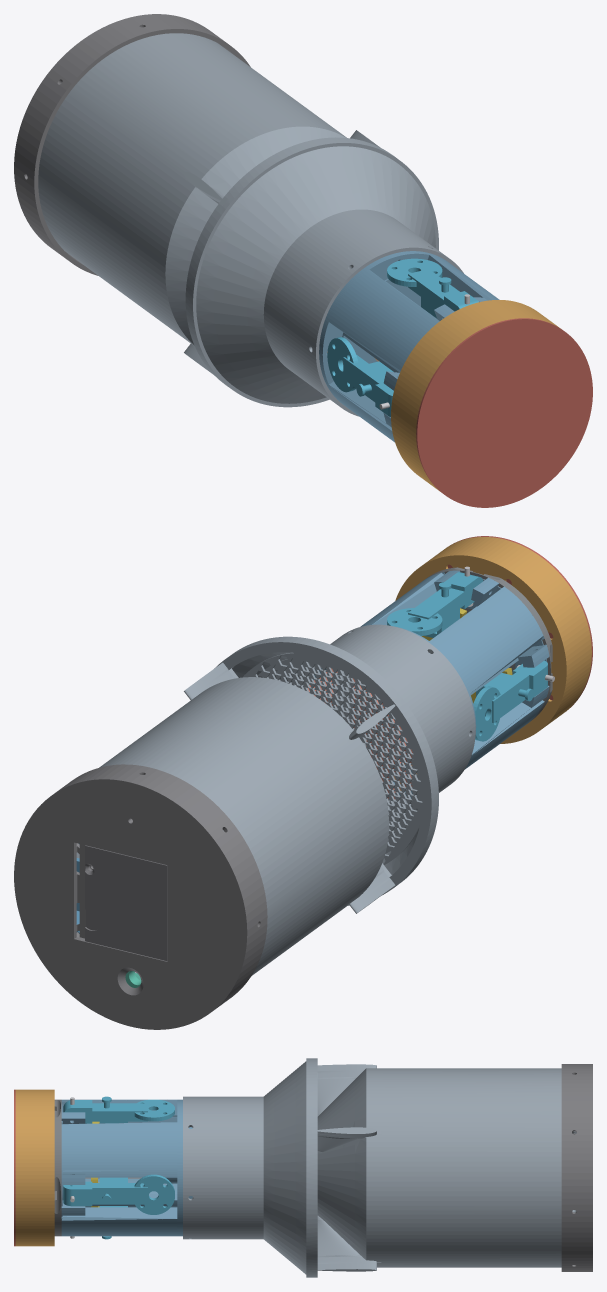
The model's file is cansat_assembly.glb.
The picture shows the model from 3 angles, top to bottom: view 1: azimuth 30°, elevation 25°; view 2: azimuth 150°, elevation 25°; view 3: azimuth 270°, elevation 25°; orthographic projection. The views are drawn at different scales.
Parts seen in each view (by area): view 1: Outer_Body_NACA_Fin_Structure, Parachute_Lid, Drone_Deployment_Frame, Bay_Bottom_Disc, Parachute_Bay, Drone_Arm_NegX, Drone_Arm_PosY; view 2: Outer_Body_NACA_Fin_Structure, Bay_Bottom_Disc, Drone_Deployment_Frame, Parachute_Bay, Bay_Hatch_Door, Drone_Arm_NegX, Drone_Arm_PosY, Drone_Top_Plate, Turbine_Rotor_1_Lower; view 3: Outer_Body_NACA_Fin_Structure, Drone_Deployment_Frame, Bay_Bottom_Disc, Parachute_Bay, Drone_Arm_PosX, Drone_Arm_PosY, Drone_Top_Plate, Parachute_Lid.
Boxes of the visible parts, <box> form: Outer_Body_NACA_Fin_Structure: <box>38,33,463,416</box>; Parachute_Lid: <box>416,318,592,507</box>; Drone_Deployment_Frame: <box>319,251,499,442</box>; Bay_Bottom_Disc: <box>14,14,250,275</box>; Parachute_Bay: <box>391,300,560,491</box>; Drone_Arm_NegX: <box>327,337,393,417</box>; Drone_Arm_PosY: <box>387,258,478,318</box>; Outer_Body_NACA_Fin_Structure: <box>76,624,475,975</box>; Bay_Bottom_Disc: <box>14,764,267,1029</box>; Drone_Deployment_Frame: <box>313,570,549,799</box>; Parachute_Bay: <box>395,537,591,743</box>; Bay_Hatch_Door: <box>85,845,167,960</box>; Drone_Arm_NegX: <box>473,660,547,741</box>; Drone_Arm_PosY: <box>387,572,483,637</box>; Drone_Top_Plate: <box>426,567,552,721</box>; Turbine_Rotor_1_Lower: <box>307,668,412,799</box>; Outer_Body_NACA_Fin_Structure: <box>183,1058,576,1277</box>; Drone_Deployment_Frame: <box>61,1099,192,1236</box>; Bay_Bottom_Disc: <box>561,1064,592,1271</box>; Parachute_Bay: <box>15,1089,54,1246</box>; Drone_Arm_PosX: <box>63,1174,174,1214</box>; Drone_Arm_PosY: <box>63,1096,174,1123</box>; Drone_Top_Plate: <box>54,1099,61,1236</box>; Parachute_Lid: <box>14,1089,15,1246</box>.
Size of the model in its own units: 154 by 154 by 406.
